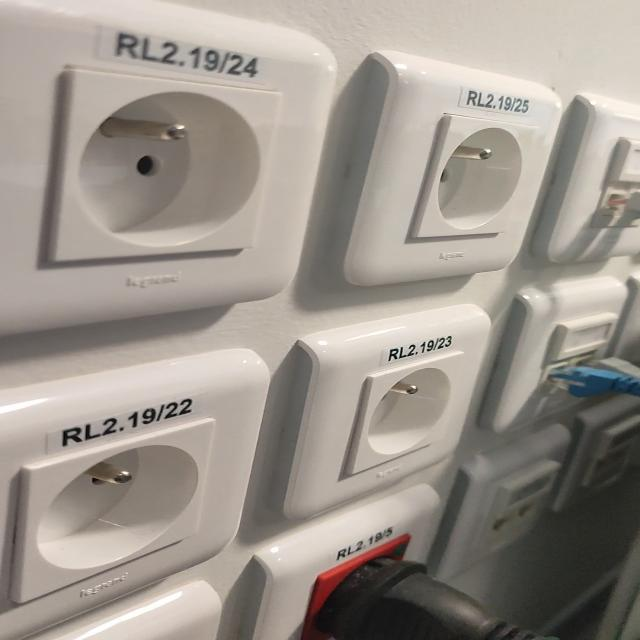house plug: (52, 67, 284, 263), (18, 419, 212, 602), (416, 113, 540, 235), (349, 351, 462, 474)
